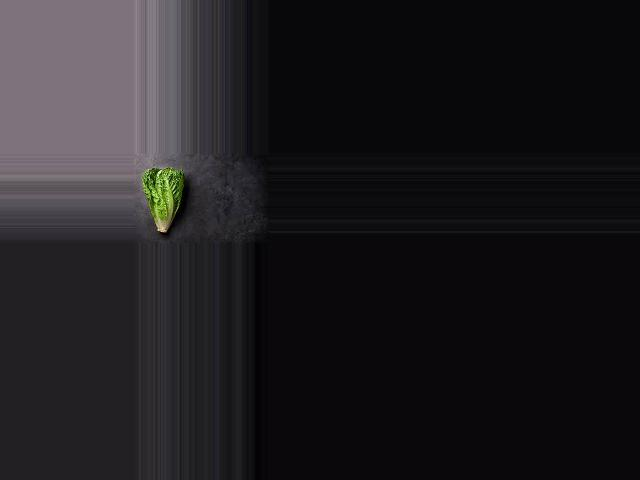lettuce: (140, 167, 186, 237)
